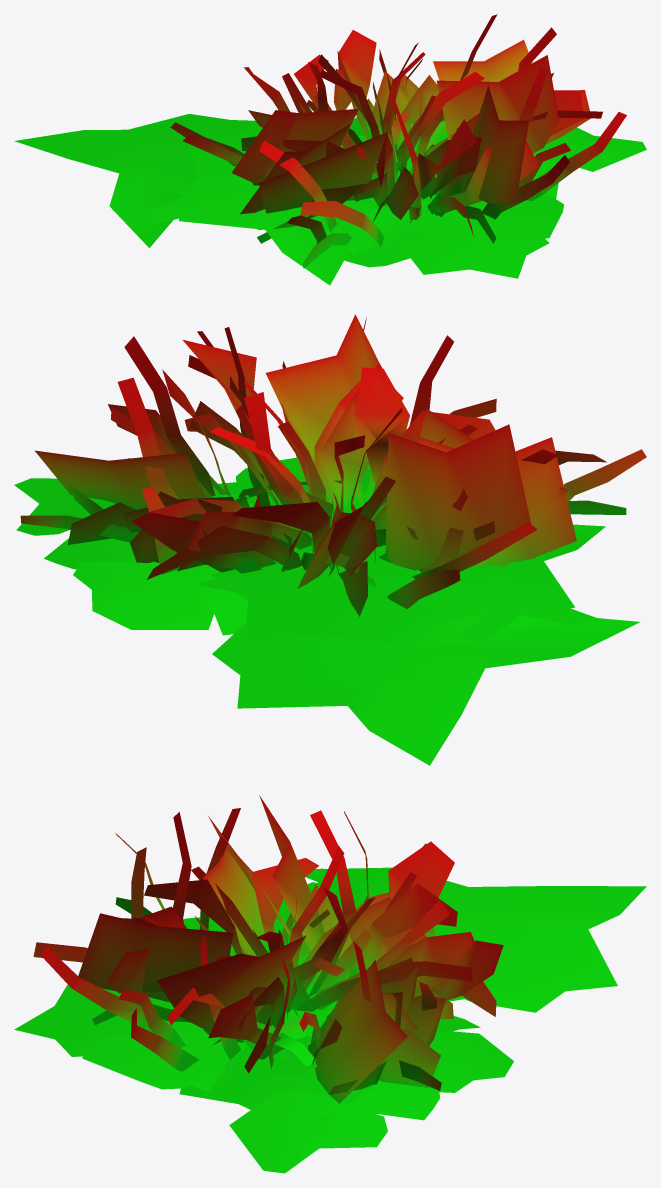
The model's file is Var16_LOD1.fbx.
The picture shows the model from 3 angles, top to bottom: view 1: azimuth 30°, elevation 25°; view 2: azimuth 150°, elevation 25°; view 3: azimuth 270°, elevation 25°; orthographic projection. The views are drawn at different scales.
Parts seen in each view (by area): view 1: _ttcm_Var16_LOD1; view 2: _ttcm_Var16_LOD1; view 3: _ttcm_Var16_LOD1.
Boxes of the visible parts, x1,y1,x2,y2 form: _ttcm_Var16_LOD1: (14,14,646,285); _ttcm_Var16_LOD1: (14,314,646,765); _ttcm_Var16_LOD1: (14,795,646,1173).
Size of the model in its own units: 78.82 by 26.26 by 73.25.
